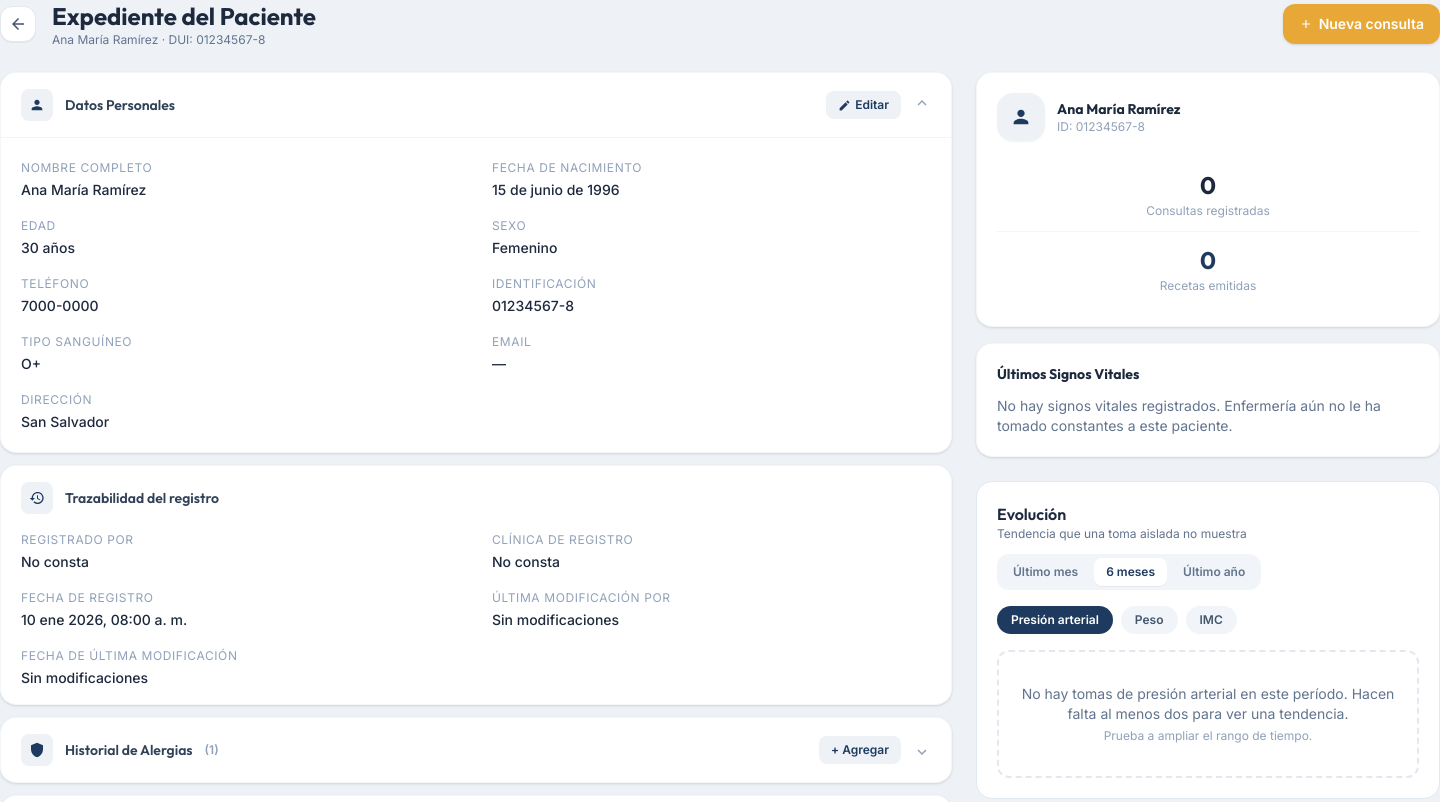
Scenario: expediente · alergias del paciente (HU-11) › c1: pide las alergias de ESTE paciente y las muestra en su sección
Click the button "Historial de Alergias (1)". click: click(37, 750)
box: [21,734,807,766]
(page scrolled)
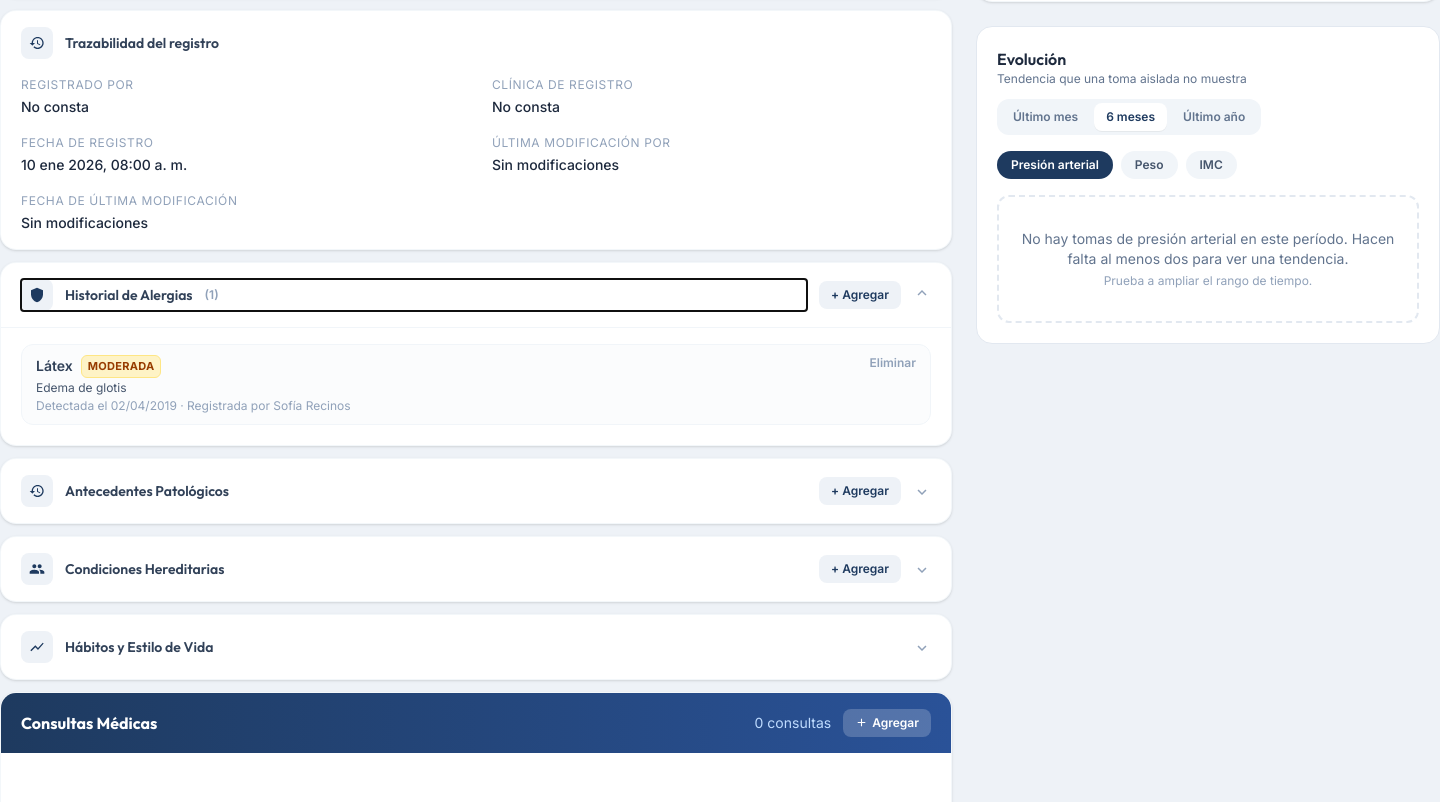
Result: the text "Látex" is shown at [36,356,73,376]
Result: the text "Detectada el 02/04/2019 · Registrada por Sofía Recinos" is shown at [36,398,351,414]
